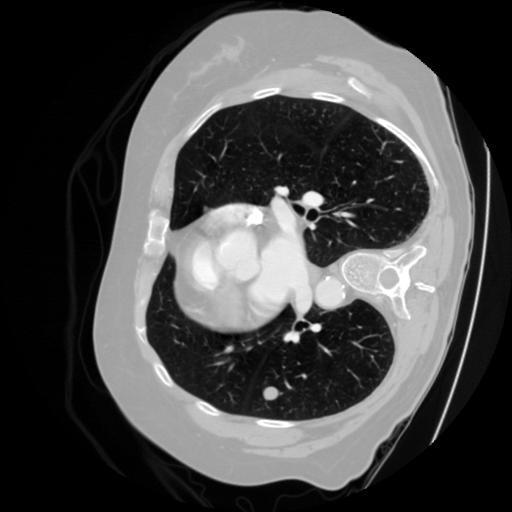nodule: (259, 381, 282, 404)
